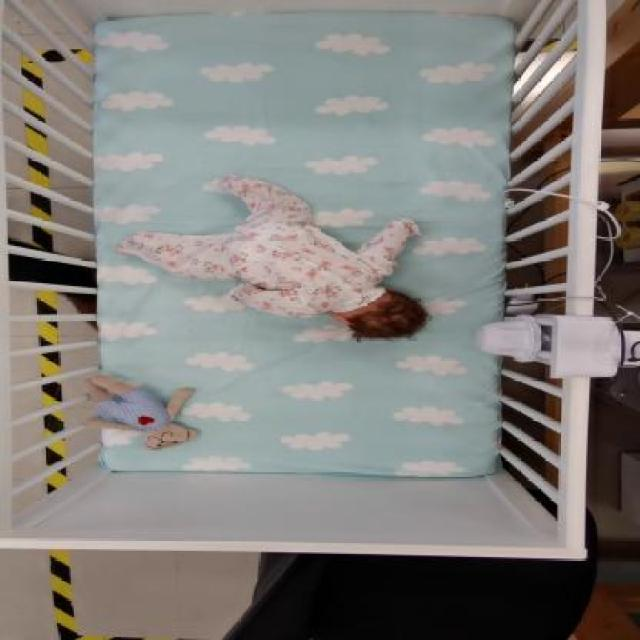baby: (113, 174, 430, 344)
